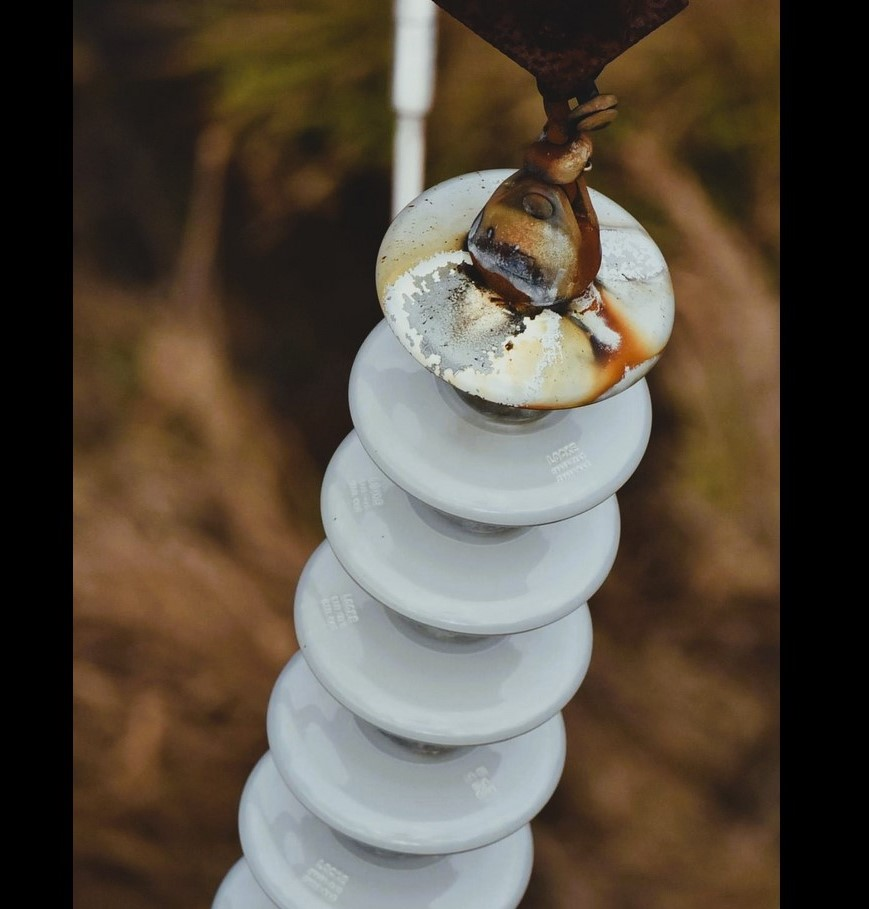Insulator flashover: (367, 163, 688, 413)
